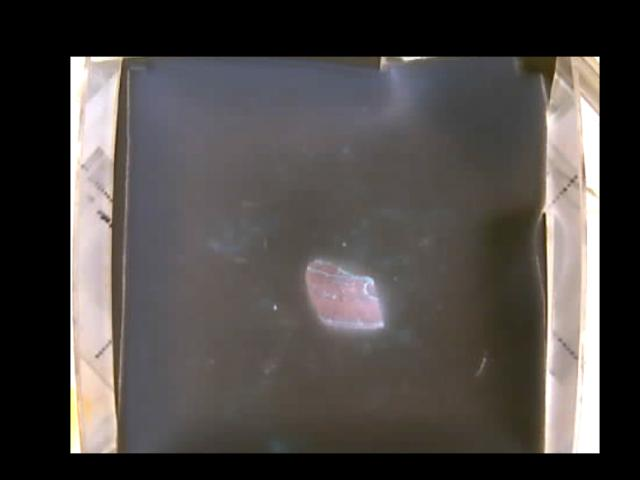China: (306, 257, 385, 327)
